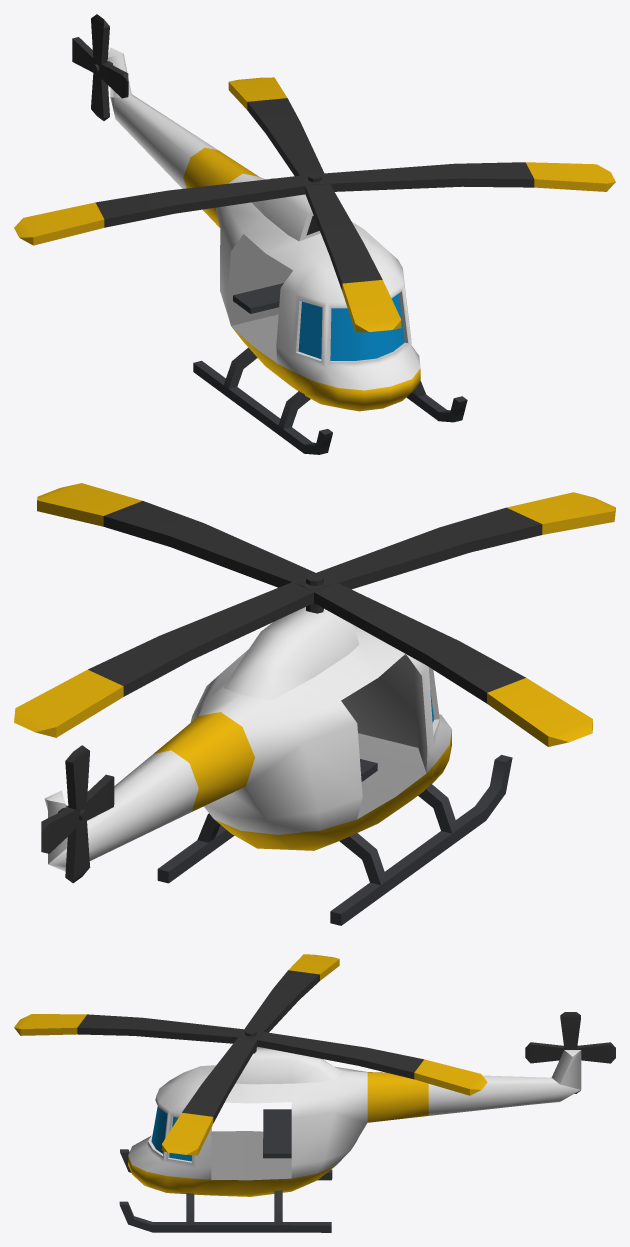
The model's file is helicopter.fbx.
3 renders of one model, top to bottom at view 1: azimuth 30°, elevation 25°; view 2: azimuth 150°, elevation 25°; view 3: azimuth 270°, elevation 25°, orthographic. The views are drawn at different scales.
Parts seen in each view (by area): view 1: helicopter; view 2: helicopter; view 3: helicopter.
Boxes of the visible parts, bbox=[...] form: helicopter: bbox=[14, 14, 615, 454]; helicopter: bbox=[14, 483, 615, 925]; helicopter: bbox=[14, 954, 615, 1232].
Bounding box in the file's own units: 1350 × 588 × 1716.
